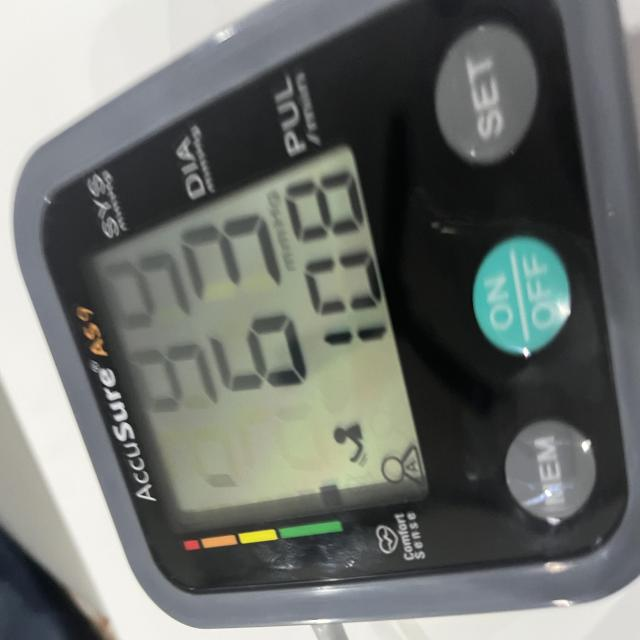bp: (0, 0, 640, 624)
